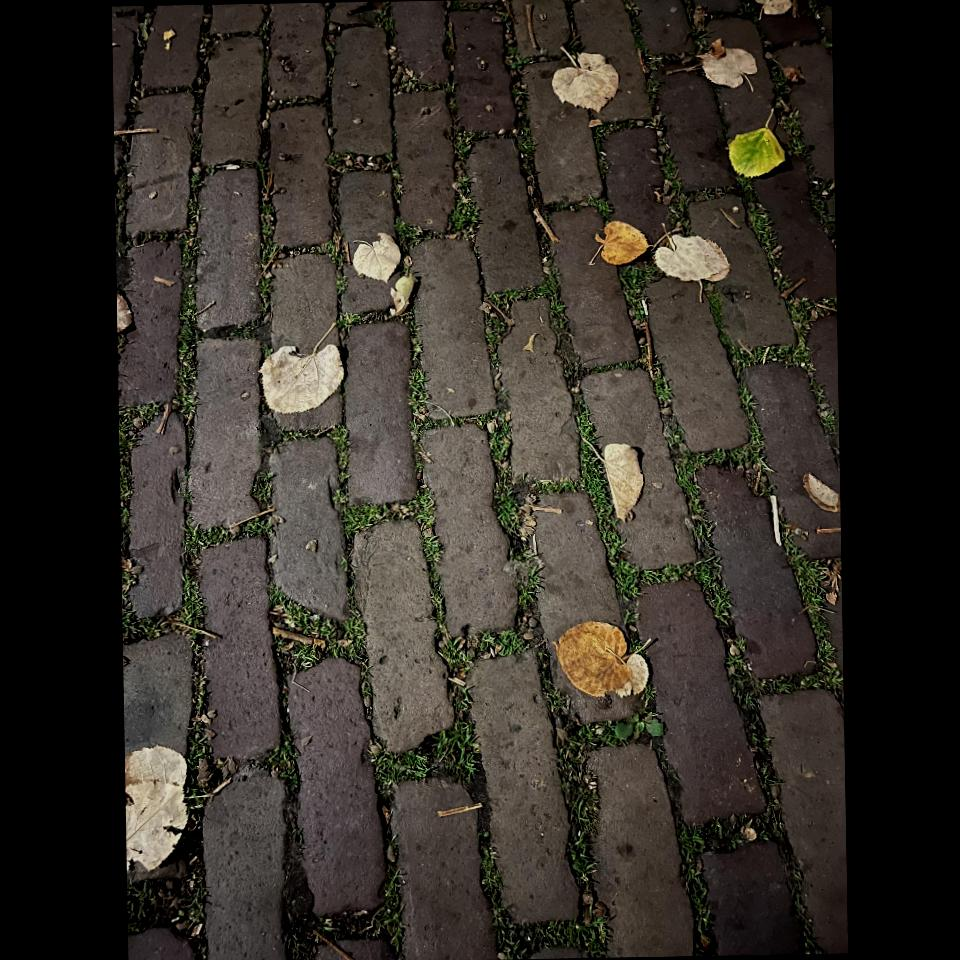weed: (635, 455, 840, 785), (577, 397, 640, 615), (373, 720, 480, 798), (272, 584, 365, 662), (172, 222, 200, 424), (119, 403, 163, 529), (787, 541, 832, 651), (745, 182, 789, 290), (336, 489, 433, 536), (486, 408, 514, 496), (184, 521, 233, 561), (122, 606, 156, 641), (787, 301, 808, 344), (293, 642, 318, 670), (501, 502, 518, 533), (240, 521, 270, 537), (824, 673, 844, 694), (819, 647, 834, 665), (515, 611, 527, 632)
